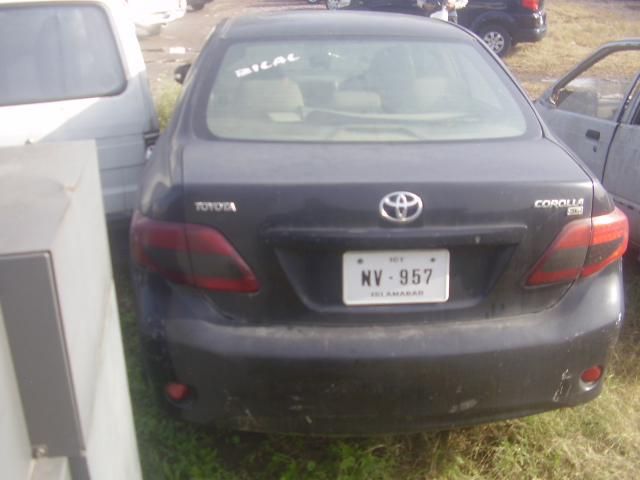Number Plate (Car): (342, 252, 447, 302)
